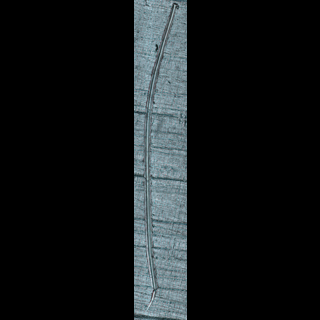d: (141, 2, 180, 314)
